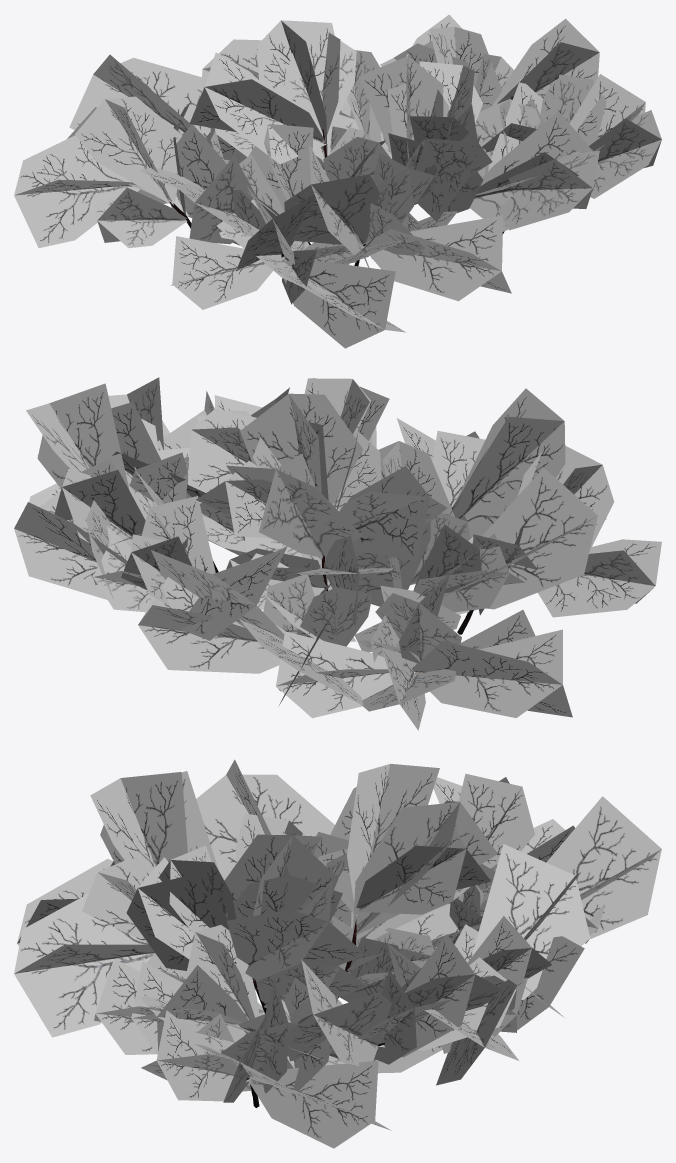
File: Bush_A_05.fbx
The picture shows the model from 3 angles, top to bottom: view 1: azimuth 30°, elevation 25°; view 2: azimuth 150°, elevation 25°; view 3: azimuth 270°, elevation 25°; orthographic projection. The views are drawn at different scales.
Parts seen in each view (by area): view 1: Bush_A_05_LOD0; view 2: Bush_A_05_LOD0; view 3: Bush_A_05_LOD0.
Part boxes in pixels (x1,y1,x2,y2): Bush_A_05_LOD0: [14, 14, 661, 348]; Bush_A_05_LOD0: [14, 377, 661, 730]; Bush_A_05_LOD0: [14, 759, 661, 1148].
Size of what is drawn, in the model's own units: 616 by 207 by 536.
